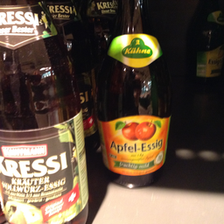vinegar: (1, 1, 88, 224), (98, 1, 177, 189)
